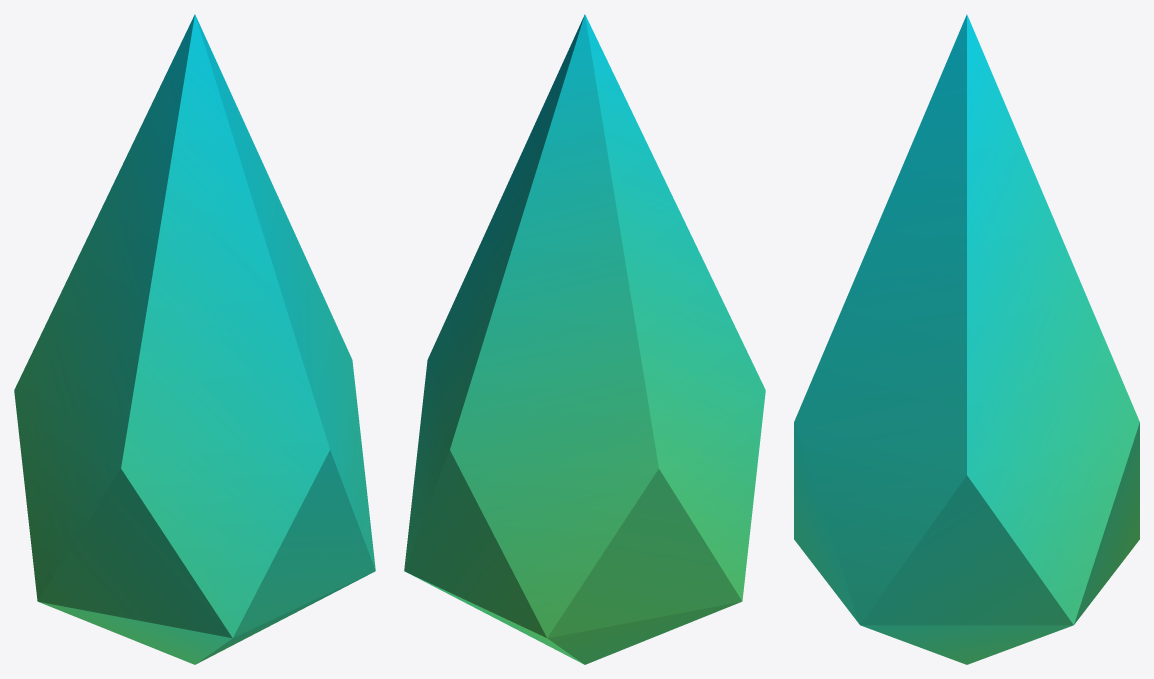
Rendered from Frozen Tear.fbx.
The picture shows the model from 3 angles, left to right: view 1: azimuth 30°, elevation 25°; view 2: azimuth 150°, elevation 25°; view 3: azimuth 270°, elevation 25°; orthographic projection.
Parts seen in each view (by area): view 1: FROZEN TEAR.001; view 2: FROZEN TEAR.001; view 3: FROZEN TEAR.001.
Boxes of the visible parts, x1,y1,x2,y2 form: FROZEN TEAR.001: (14, 14, 375, 664); FROZEN TEAR.001: (404, 14, 765, 664); FROZEN TEAR.001: (794, 14, 1139, 664).
Bounding box in the file's own units: 117 × 231 × 111.
1 material, 1 textured.
